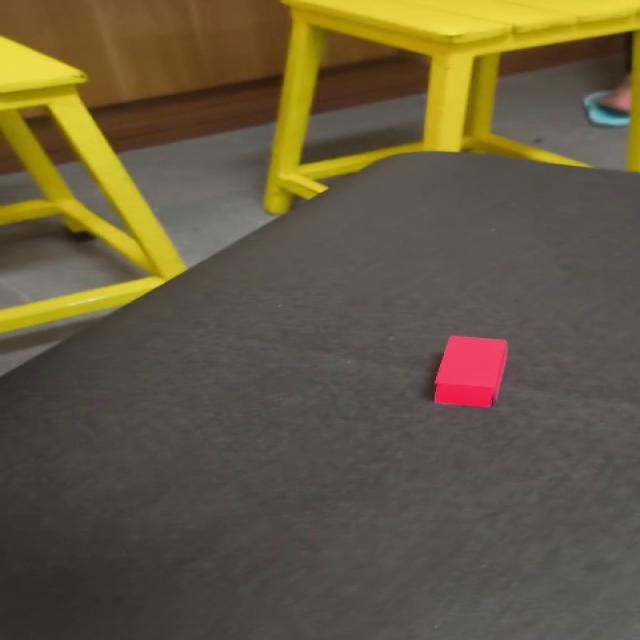red block: (432, 334, 508, 407)
